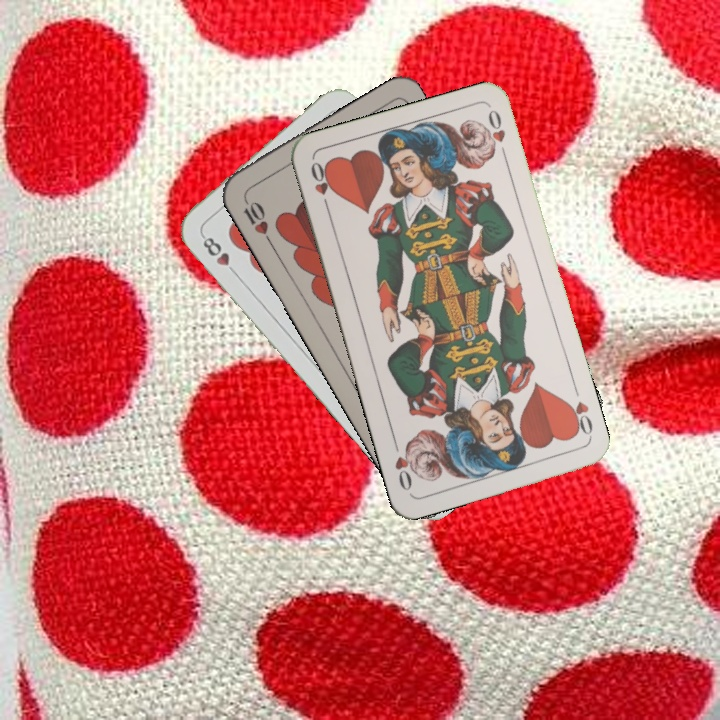H10: (239, 193, 275, 247)
H8: (197, 230, 241, 279)
HO: (306, 157, 335, 215), (562, 397, 595, 441)
